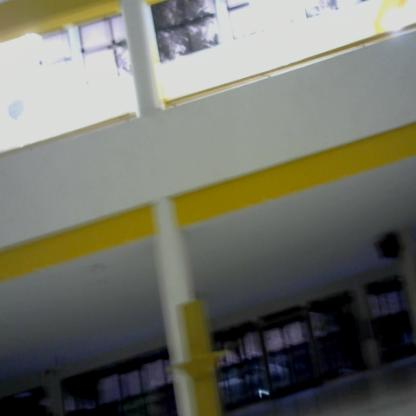pole: (169, 293, 231, 416)
